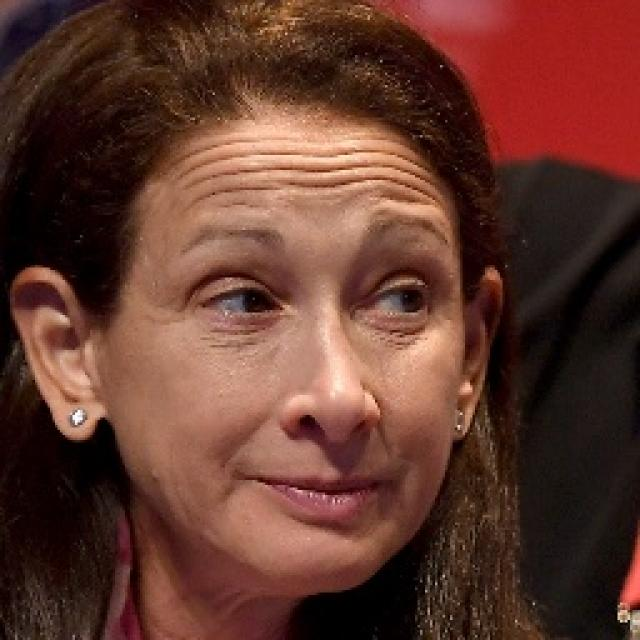earlobe: (57, 386, 103, 443), (450, 385, 482, 442)
eye: (197, 286, 287, 318), (362, 284, 433, 316)
nose: (282, 415, 391, 486)
wholeear: (11, 266, 104, 443), (449, 267, 504, 442)
